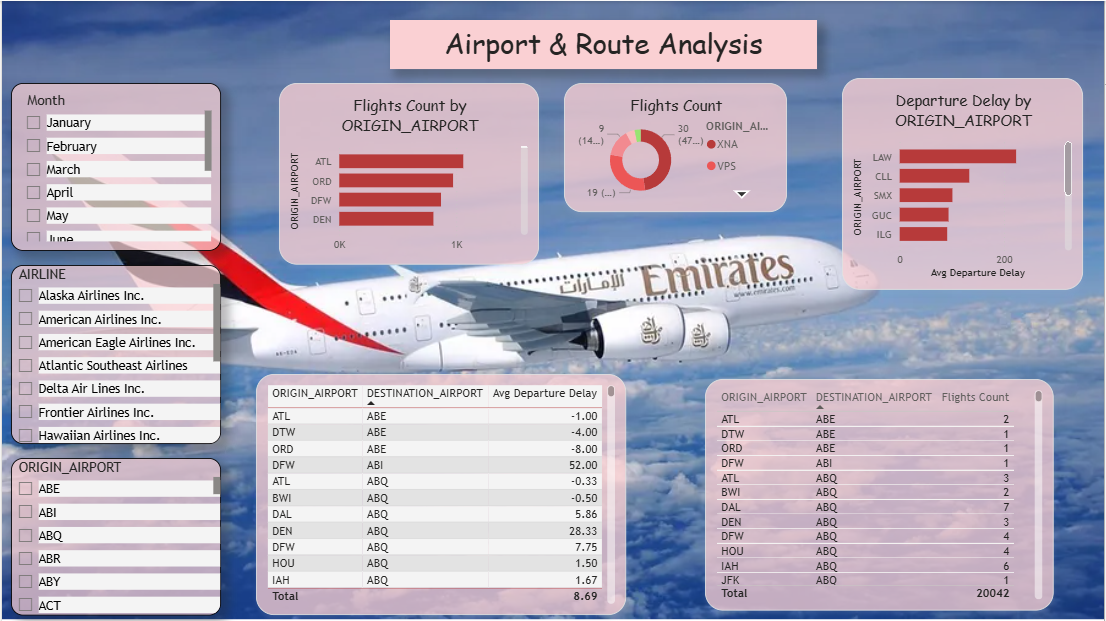

What the dashboard file says about the page in this screenshot:
{"tool":"powerbi","page":{"name":"Page 2","canvas":[1280,720],"ordinal":1},"visuals":[{"type":"clusteredBarChart","title":"Departure Delay by ORIGIN_AIRPORT","fields":{"Category":["fly_emirates_flight flights.ORIGIN_AIRPORT"],"Y":["fly_emirates_flight airlines.Avg Departure Delay"]},"box":[975.7,89.4,279.9,246.2],"z":0},{"type":"clusteredBarChart","fields":{"Category":["fly_emirates_flight flights.ORIGIN_AIRPORT"],"Y":["fly_emirates_flight airlines.Flights Count"]},"box":[321.7,95.2,302,211.4],"z":1000},{"type":"tableEx","fields":{"Values":["fly_emirates_flight flights.ORIGIN_AIRPORT","fly_emirates_flight flights.DESTINATION_AIRPORT","fly_emirates_flight airlines.Avg Departure Delay"]},"box":[295,433.2,429.8,279.9],"z":2000},{"type":"tableEx","fields":{"Values":["fly_emirates_flight flights.ORIGIN_AIRPORT","fly_emirates_flight flights.DESTINATION_AIRPORT","fly_emirates_flight airlines.Flights Count"]},"box":[816.6,439.1,405.4,269.5],"z":3000},{"type":"donutChart","title":"Flights Count ","fields":{"Category":["fly_emirates_flight flights.ORIGIN_AIRPORT"],"Y":["fly_emirates_flight airlines.Flights Count"]},"box":[652.8,95.2,259,149.8],"z":4000},{"type":"slicer","fields":{"Values":["fly_emirates_flight flights.FLIGHT_DATE.Variation.Date Hierarchy.Month"]},"box":[11,94.8,244.4,194.5],"z":5000},{"type":"slicer","fields":{"Values":["fly_emirates_flight airlines.AIRLINE"]},"box":[11,306.3,244.4,207.5],"z":6000},{"type":"slicer","fields":{"Values":["fly_emirates_flight flights.ORIGIN_AIRPORT"]},"box":[11,530.8,244.4,182.6],"z":7000},{"type":"textbox","box":[450.9,21.9,495.8,56.9],"z":8000}]}

Visuals, with their boxes in screenshot pixels (x1, y1, x2, y2), scaled from the page's 1280x720 canvas onto the 1106x621 screenshot:
"Departure Delay by ORIGIN_AIRPORT" clusteredBarChart: 843,77,1085,289
clusteredBarChart - fly_emirates_flight flights.ORIGIN_AIRPORT x fly_emirates_flight airlines.Flights Count: 278,82,539,264
tableEx - fly_emirates_flight flights.ORIGIN_AIRPORT x fly_emirates_flight flights.DESTINATION_AIRPORT: 255,374,626,615
tableEx - fly_emirates_flight flights.ORIGIN_AIRPORT x fly_emirates_flight flights.DESTINATION_AIRPORT: 706,379,1056,611
"Flights Count " donutChart: 564,82,788,211
slicer - fly_emirates_flight flights.FLIGHT_DATE.Variation.Date Hierarchy.Month: 10,82,221,250
slicer - fly_emirates_flight airlines.AIRLINE: 10,264,221,443
slicer - fly_emirates_flight flights.ORIGIN_AIRPORT: 10,458,221,615
textbox: 390,19,818,68
